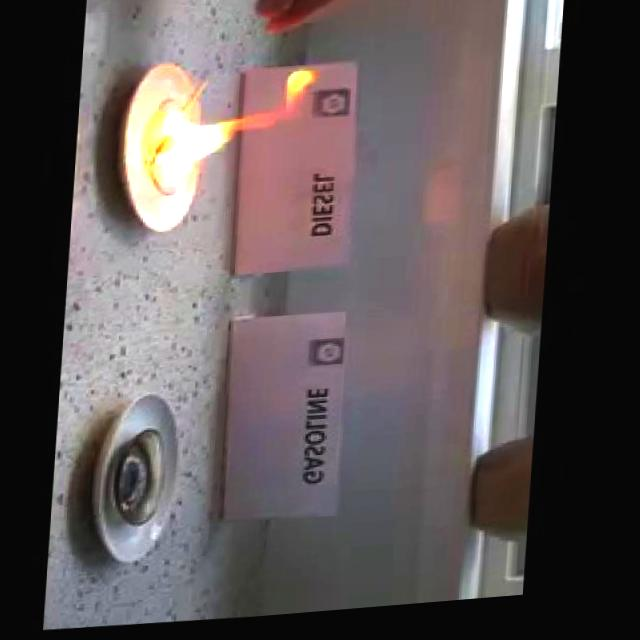Fire: (146, 70, 317, 193)
